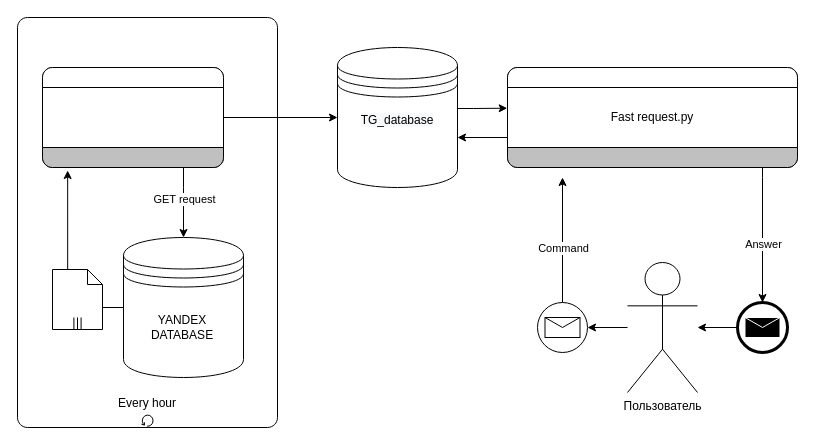
Some shapes in this 815 by 445 pixel diagram are drawn without their labels. Each missing label, with the centre of its shape:
"JSON" goes at pixel 77 299.
"Update.py" goes at pixel 133 117.
